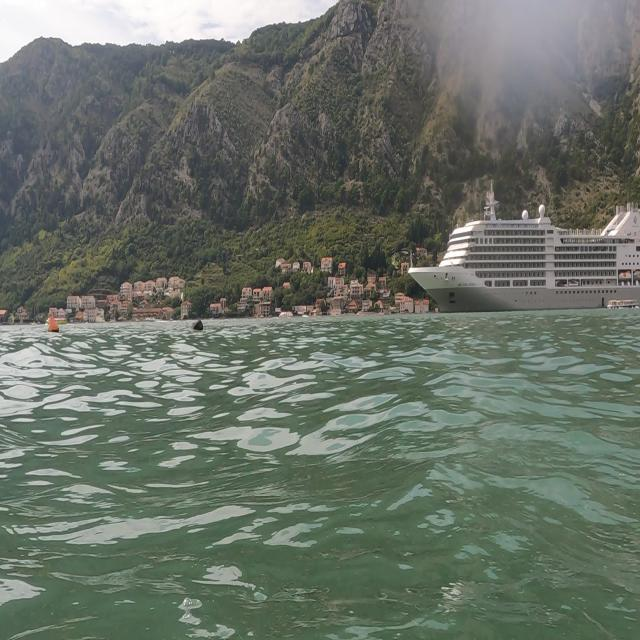boat: (406, 176, 639, 314)
buoy: (43, 308, 68, 348), (182, 313, 210, 338)
